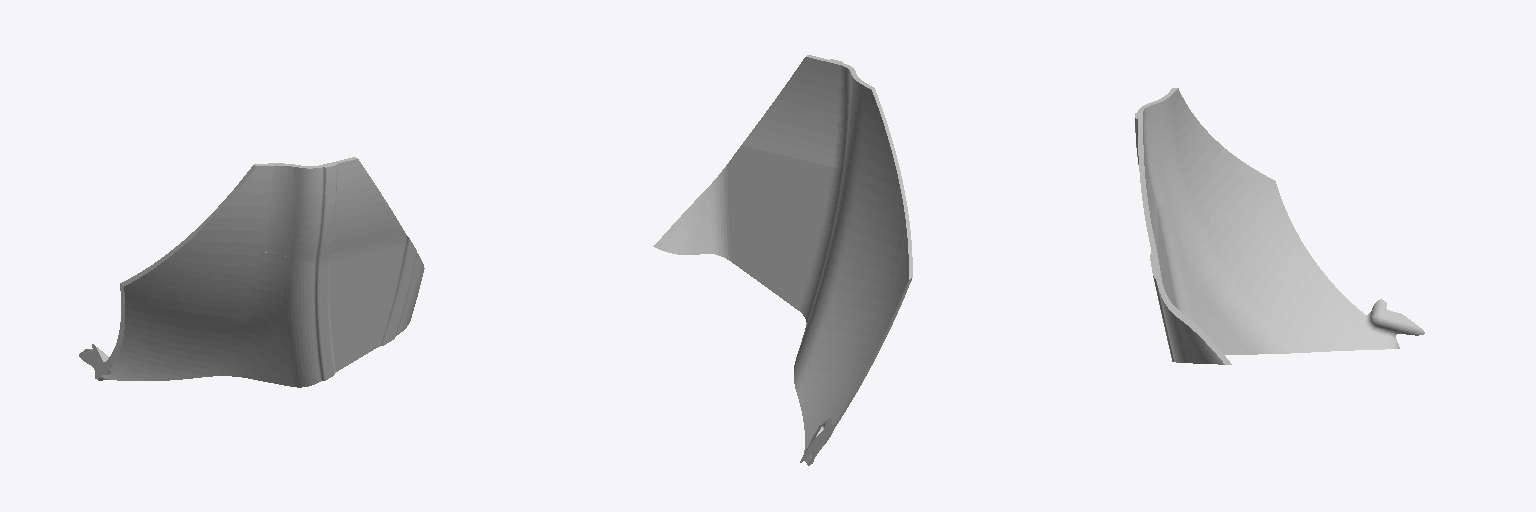
Rendered from Body16.obj.
3 views of the same model, side by side, from view 1: azimuth 30°, elevation 25°; view 2: azimuth 150°, elevation 25°; view 3: azimuth 270°, elevation 25° (orthographic).
Visible parts, largest first — view 1: Body16; view 2: Body16; view 3: Body16.
Part boxes in pixels (bbox=[...]): Body16: bbox=[79, 157, 424, 387]; Body16: bbox=[653, 55, 912, 465]; Body16: bbox=[1135, 88, 1424, 364].
Size of the model in its own units: 1.18 by 1.16 by 1.07.